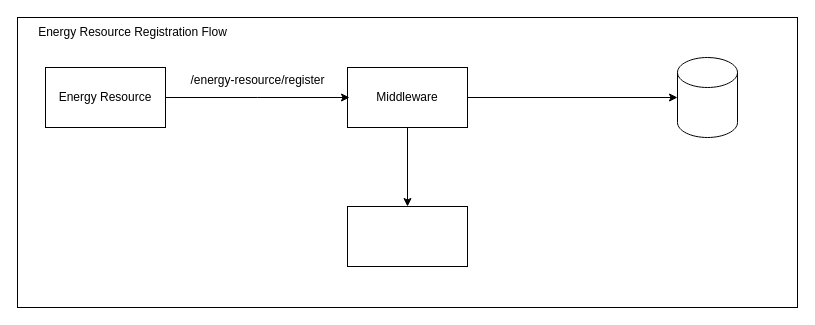
Some shapes in this 815 by 325 pixel diagram are drawn without their labels. The shapes that lost their labels are listed below. From the top down, each one's box as (x1, y1, x2, y2) in pixels, then its label:
(676, 56, 738, 138): Postgres
(346, 206, 468, 266): Network Operator
